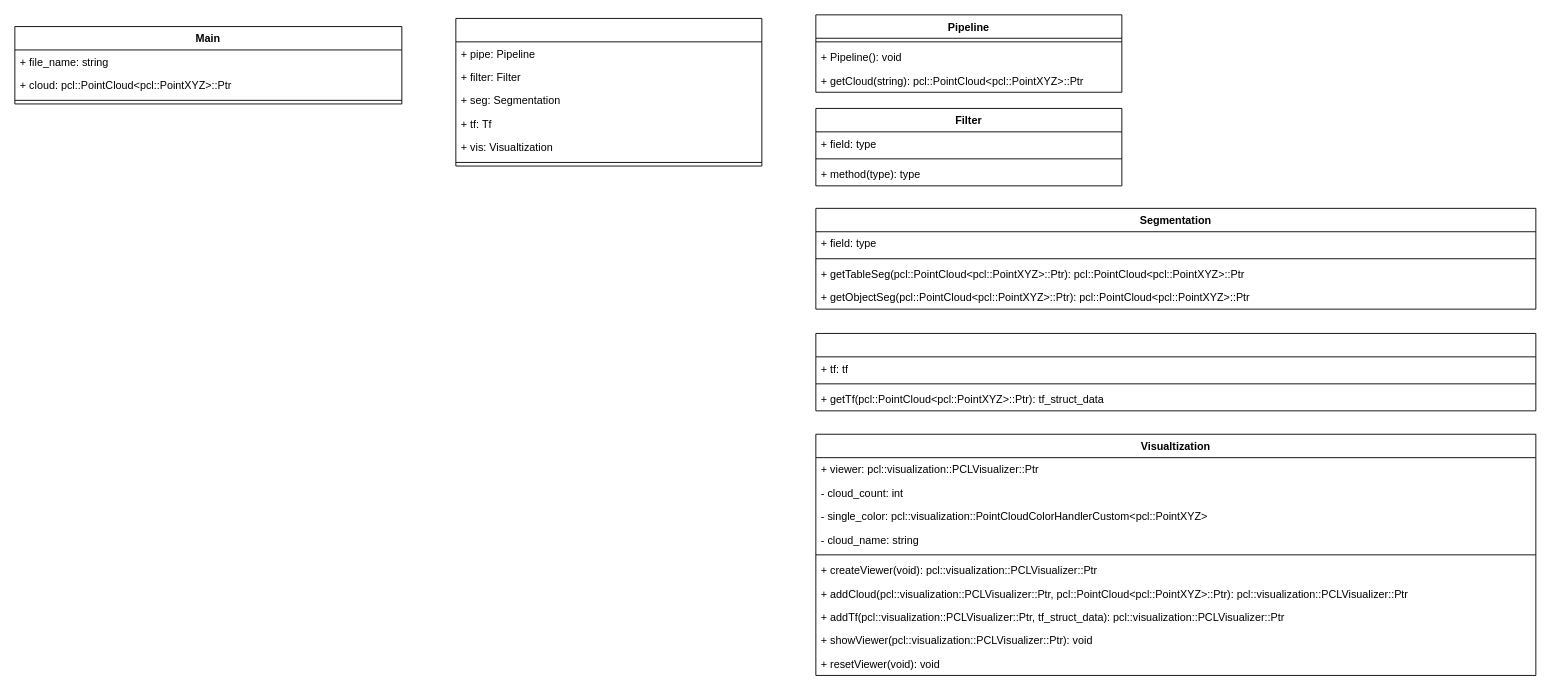
Some shapes in this 1551 by 690 pixel diagram are drawn without their labels. Here are the shapes that lost their labels. From the top down, the box of each, then its label:
(455, 18, 762, 166): GetTf
(815, 333, 1536, 411): Tf
